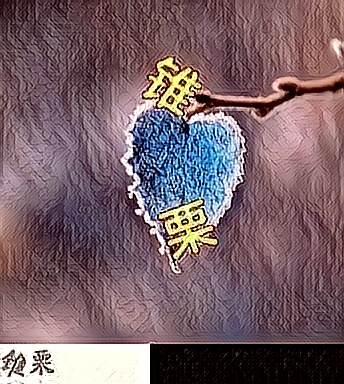C0F5: (155, 193, 221, 257)
D7B6: (139, 55, 205, 119)
